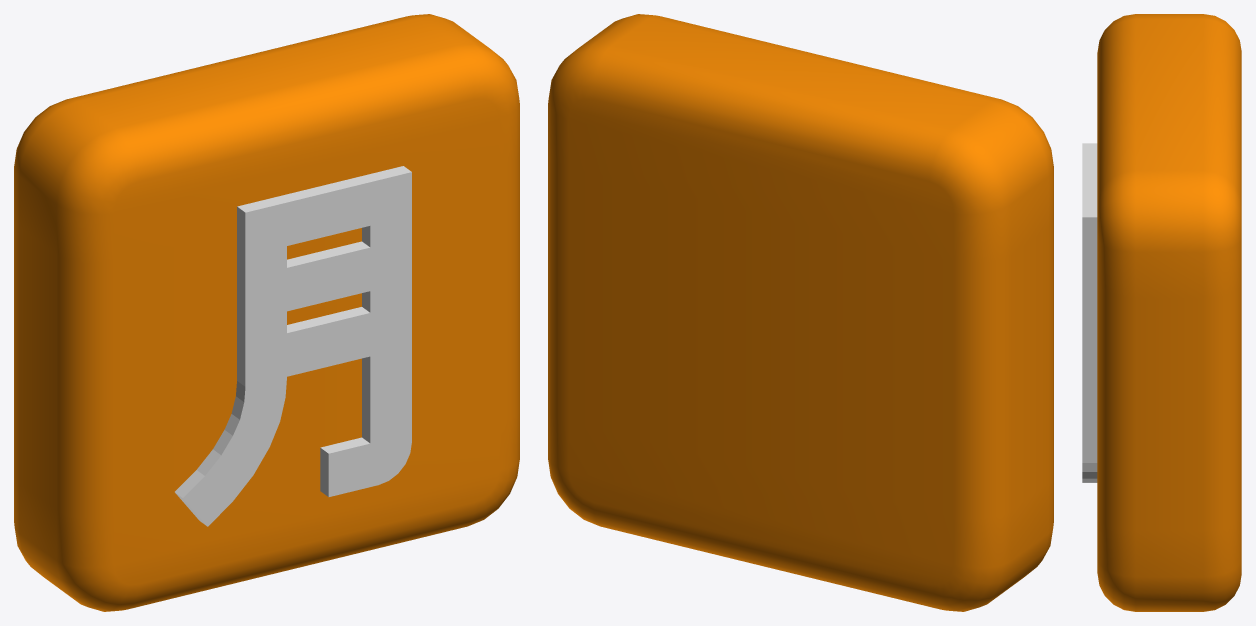
File: japanese_monthly_amount_button.glb
The picture shows the model from 3 angles, left to right: view 1: azimuth 30°, elevation 25°; view 2: azimuth 150°, elevation 25°; view 3: azimuth 270°, elevation 25°; orthographic projection. The views are drawn at different scales.
Parts seen in each view (by area): view 1: Cube.6651, Plane.365; view 2: Cube.6651; view 3: Cube.6651, Plane.365.
Boxes of the visible parts, left/top/right/bottom form: Cube.6651: left=14, top=14, right=519, bottom=611; Plane.365: left=175, top=166, right=411, bottom=526; Cube.6651: left=548, top=14, right=1053, bottom=611; Cube.6651: left=1097, top=14, right=1241, bottom=611; Plane.365: left=1082, top=143, right=1097, bottom=482.
Bounding box in the file's own units: 2.2 × 2.2 × 0.73.
Materials: 1 (1 with a texture image).
